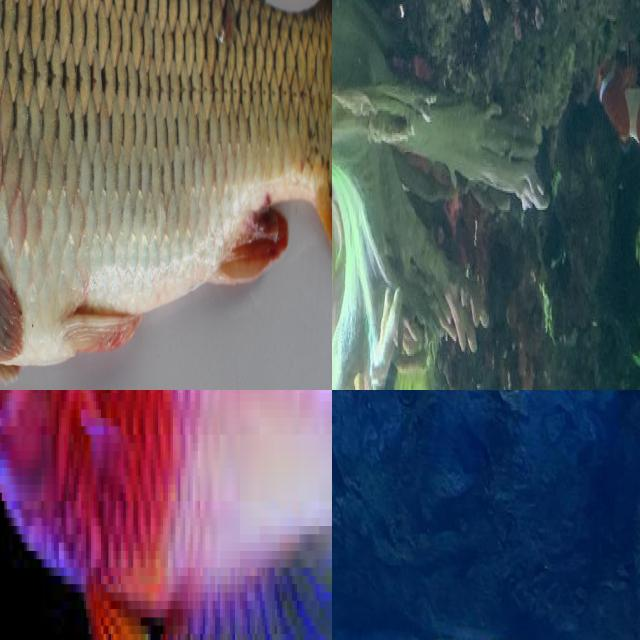fish: (0, 0, 332, 390), (0, 390, 332, 640)
